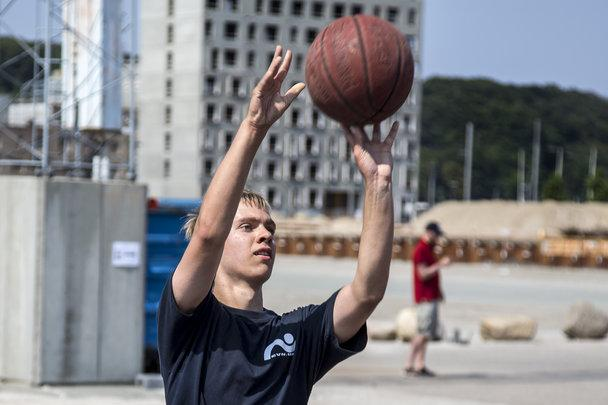basketball: (305, 10, 414, 127)
